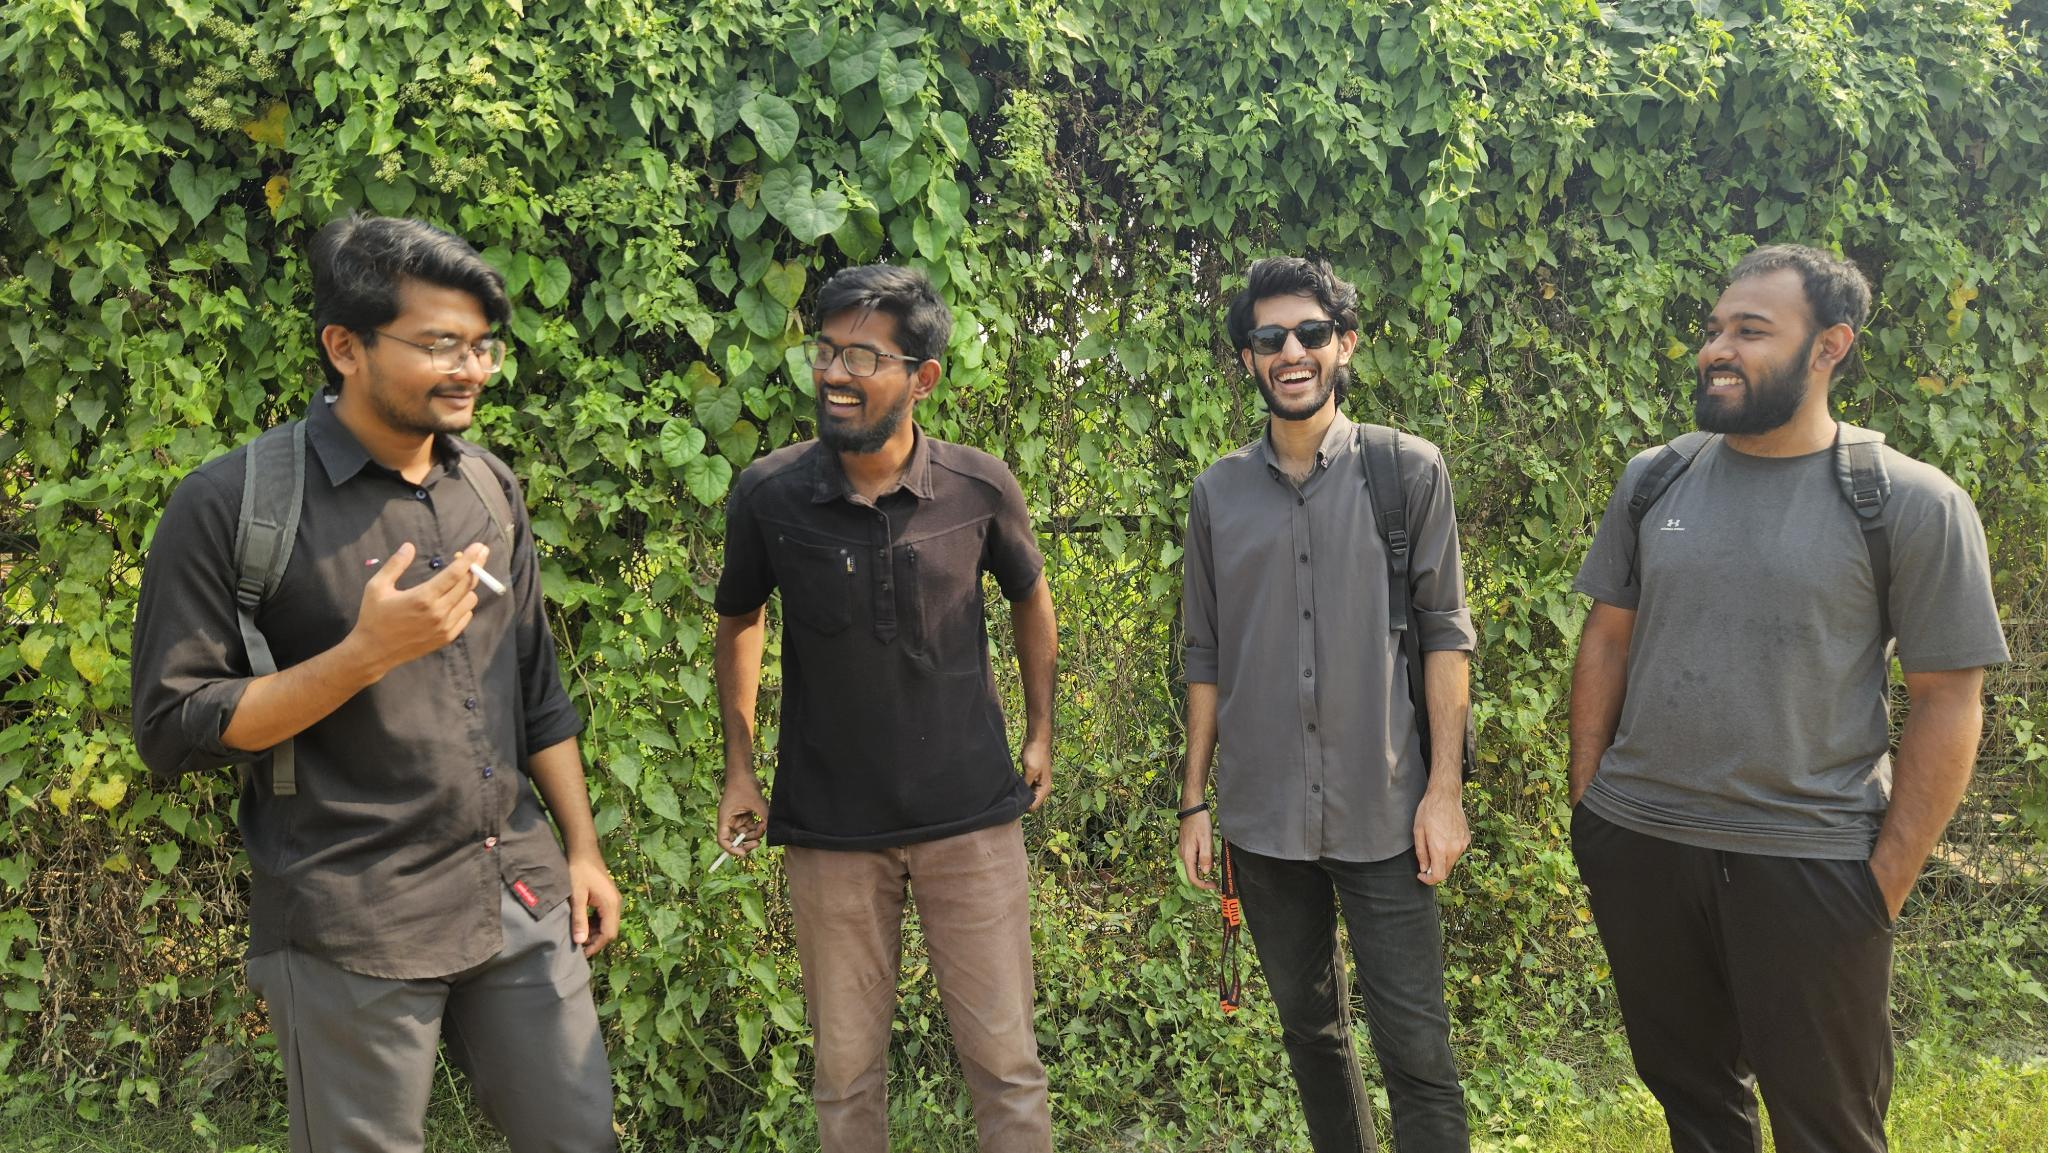cigarette: (708, 831, 747, 875), (468, 561, 508, 598)
nonSmoker: (1567, 243, 2013, 1153), (1175, 256, 1478, 1153)
smoker: (131, 217, 623, 1153), (715, 263, 1058, 1153)
